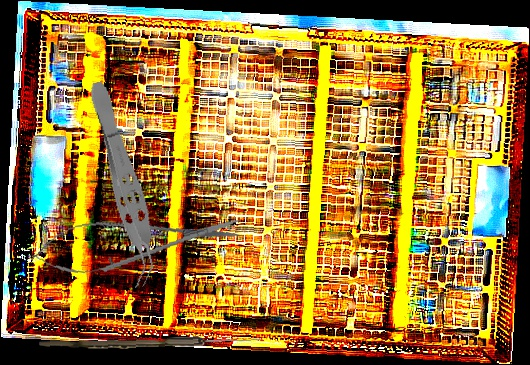Micro Scissor: (27, 200, 247, 284)
Surgical Spoon: (38, 333, 263, 352)
Tissue Forceps: (79, 78, 168, 289)
